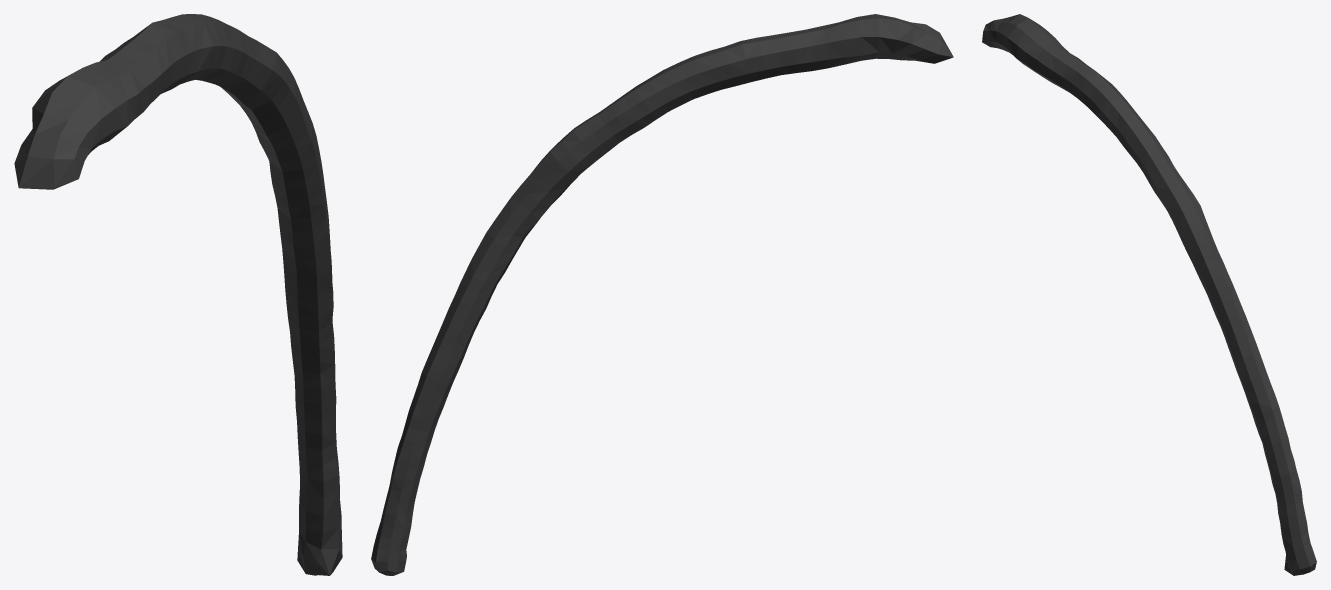
The model's file is Rib_13.glb.
3 renders of one model, left to right at view 1: azimuth 30°, elevation 25°; view 2: azimuth 150°, elevation 25°; view 3: azimuth 270°, elevation 25°, orthographic. The views are drawn at different scales.
Parts seen in each view (by area): view 1: Rib_13; view 2: Rib_13; view 3: Rib_13.
Boxes of the visible parts, x1=… form: Rib_13: x1=14, y1=14, x2=342, y2=575; Rib_13: x1=371, y1=14, x2=953, y2=575; Rib_13: x1=982, y1=14, x2=1316, y2=575.
Size of the model in its own units: 3.74 by 4.72 by 3.35.
1 material, 1 textured.
